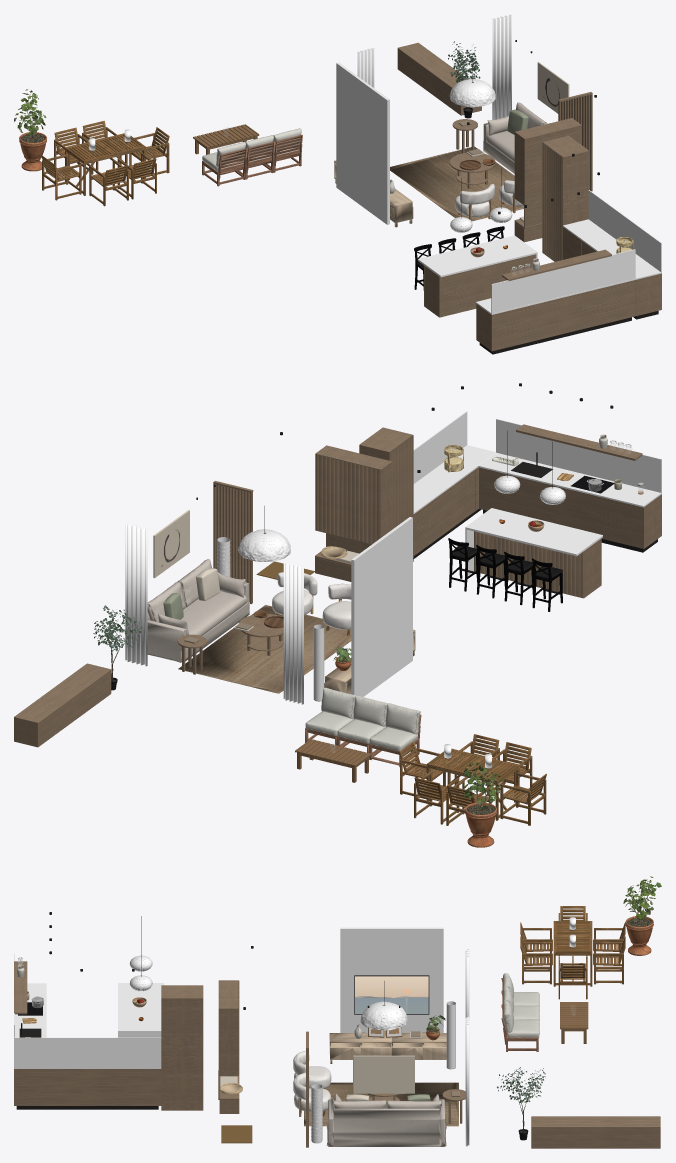
The model's file is living.gltf.
The picture shows the model from 3 angles, top to bottom: view 1: azimuth 30°, elevation 25°; view 2: azimuth 150°, elevation 25°; view 3: azimuth 270°, elevation 25°; orthographic projection. The views are drawn at different scales.
Parts seen in each view (by area): view 1: Clay media wall.002, Base run.004, Splash.002, LOHALS rug.002, Peninsula body.002, Shoe cabinet upper body.002, Tall column body.002, Planter.001, Peninsula top.002, Splash E.002, Curtain 7.002, NAMMARO table.001 (+23 smaller); view 2: Clay media wall.002, Base run.004, HYLTARP sofa.004, LOHALS rug.002, Splash.002, Planter.001, Curtain 7.002, Peninsula top.002, Curtain 4.002, Base run.005, Worktop.004, NAMMARO table.001 (+29 smaller); view 3: Clay media wall.002, HYLTARP sofa.004, Base run.005, Tall column body.002, Splash E.002, Planter.001, TV screen.002, Art canvas.002, Shoe cabinet upper body.002, Peninsula top.002, LOHALS rug.002, NAMMARO table.001 (+21 smaller).
Part boxes in pixels (x1=…): Clay media wall.002: x1=336, y1=62, x2=389, y2=224; Base run.004: x1=476, y1=280, x2=635, y2=351; Splash.002: x1=491, y1=249, x2=635, y2=313; LOHALS rug.002: x1=390, y1=146, x2=523, y2=221; Peninsula body.002: x1=424, y1=254, x2=534, y2=317; Shoe cabinet upper body.002: x1=514, y1=118, x2=581, y2=205; Tall column body.002: x1=542, y1=136, x2=589, y2=225; Planter.001: x1=397, y1=42, x2=481, y2=115; Peninsula top.002: x1=418, y1=235, x2=537, y2=277; Splash E.002: x1=588, y1=190, x2=661, y2=272; Curtain 7.002: x1=492, y1=14, x2=511, y2=119; NAMMARO table.001: x1=65, y1=133, x2=145, y2=195; Clay media wall.002: x1=351, y1=517, x2=412, y2=696; Base run.004: x1=479, y1=467, x2=661, y2=548; HYLTARP sofa.004: x1=147, y1=559, x2=249, y2=662; LOHALS rug.002: x1=178, y1=605, x2=351, y2=693; Splash.002: x1=496, y1=419, x2=661, y2=492; Planter.001: x1=14, y1=663, x2=111, y2=747; Curtain 7.002: x1=125, y1=523, x2=147, y2=666; Peninsula top.002: x1=465, y1=508, x2=602, y2=556; Curtain 4.002: x1=283, y1=562, x2=303, y2=704; Base run.005: x1=413, y1=467, x2=478, y2=555; Worktop.004: x1=478, y1=452, x2=661, y2=507; NAMMARO table.001: x1=426, y1=748, x2=519, y2=820; Clay media wall.002: x1=340, y1=927, x2=443, y2=1032; HYLTARP sofa.004: x1=326, y1=1094, x2=446, y2=1146; Base run.005: x1=14, y1=1069, x2=161, y2=1105; Tall column body.002: x1=161, y1=985, x2=203, y2=1110; Splash E.002: x1=14, y1=1037, x2=161, y2=1067; Planter.001: x1=531, y1=1116, x2=660, y2=1148; TV screen.002: x1=355, y1=976, x2=428, y2=1013; Art canvas.002: x1=353, y1=1055, x2=414, y2=1093; Shoe cabinet upper body.002: x1=218, y1=980, x2=238, y2=1076; Peninsula top.002: x1=118, y1=983, x2=164, y2=1032; LOHALS rug.002: x1=304, y1=1082, x2=458, y2=1126; NAMMARO table.001: x1=553, y1=921, x2=592, y2=986.
Bounding box in the file's own units: 9.4 × 2.72 × 12.54.
Materials: 103 (65 with a texture image).
